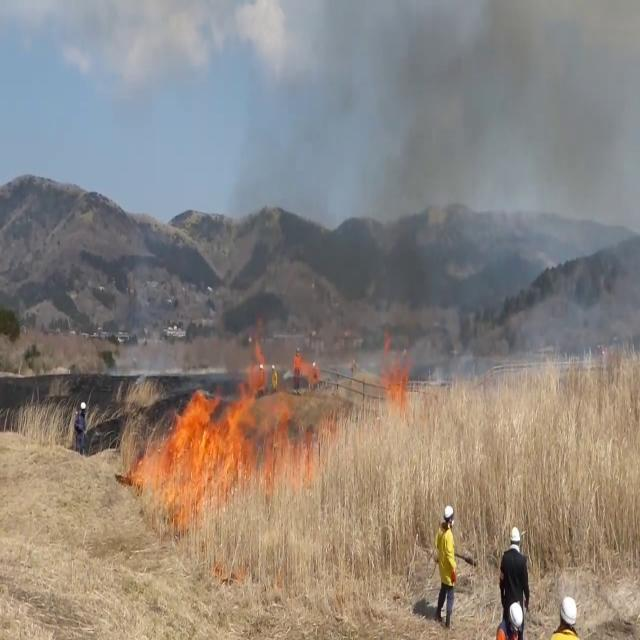Fire: (130, 367, 316, 517)
Smoke: (348, 0, 639, 388)
